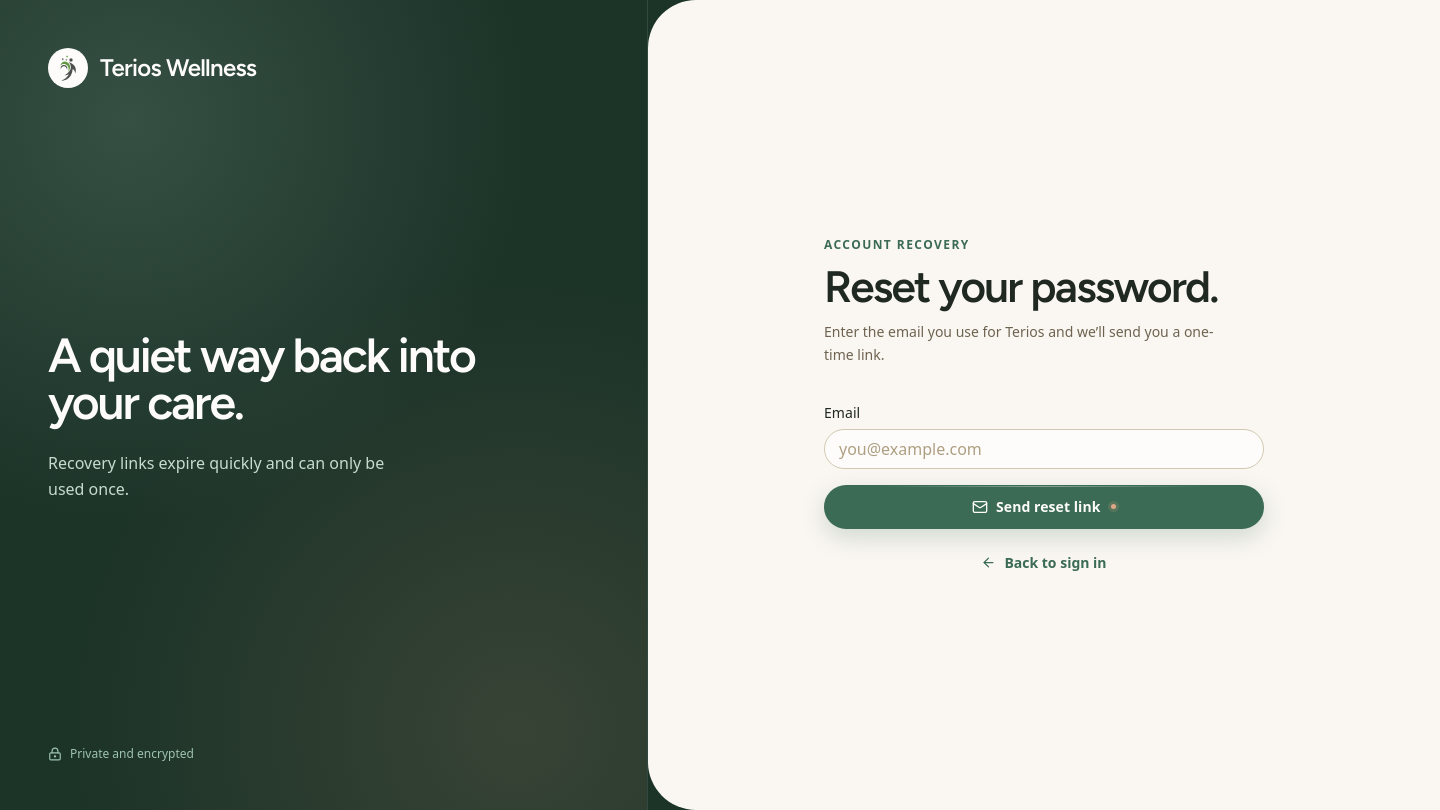
Test: client password recovery request › announces the error exactly once
In the field labelled "Email": (1044, 449) left=824, top=429, right=1264, bottom=469, type "nope"
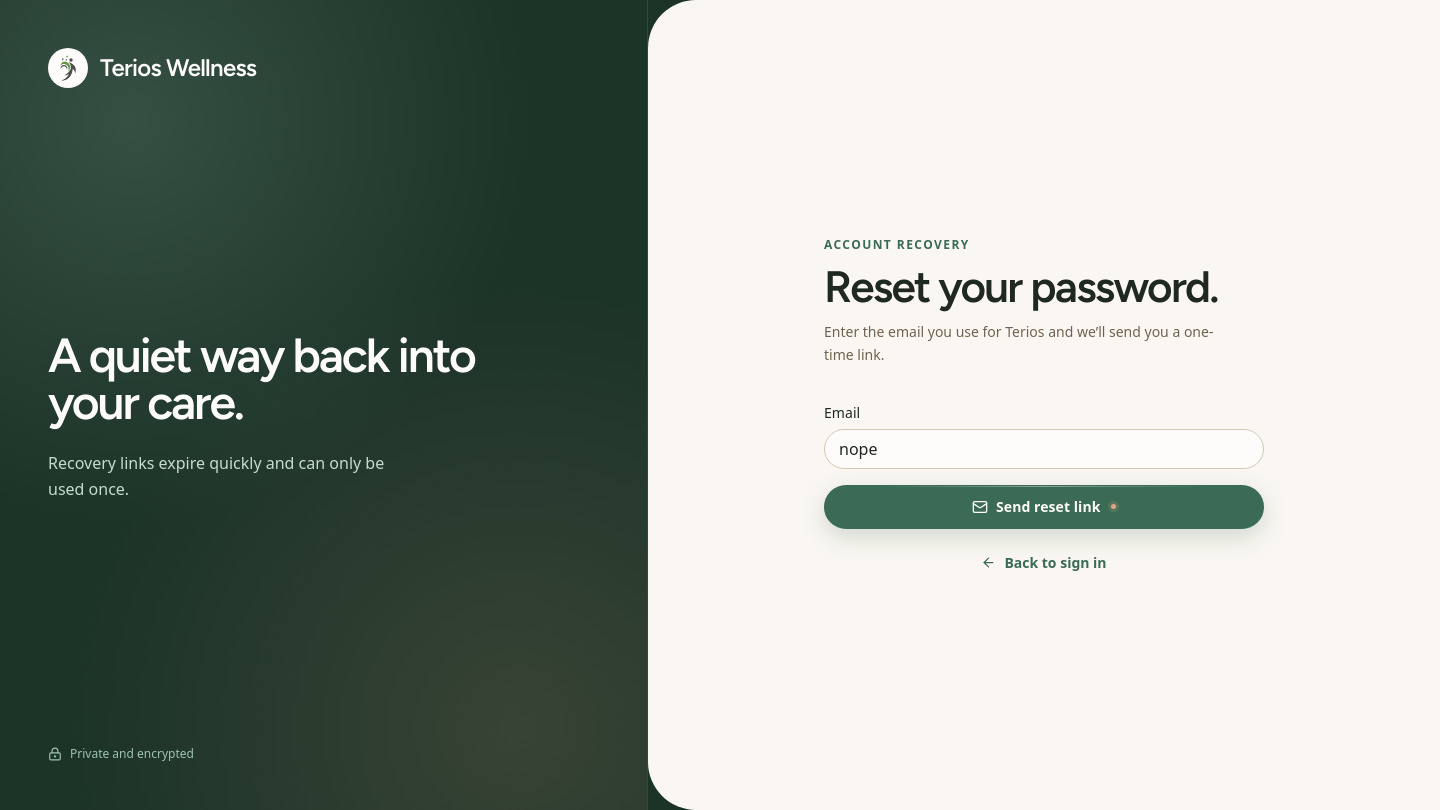
Click the button "Send reset link": (1044, 507) left=824, top=485, right=1264, bottom=529
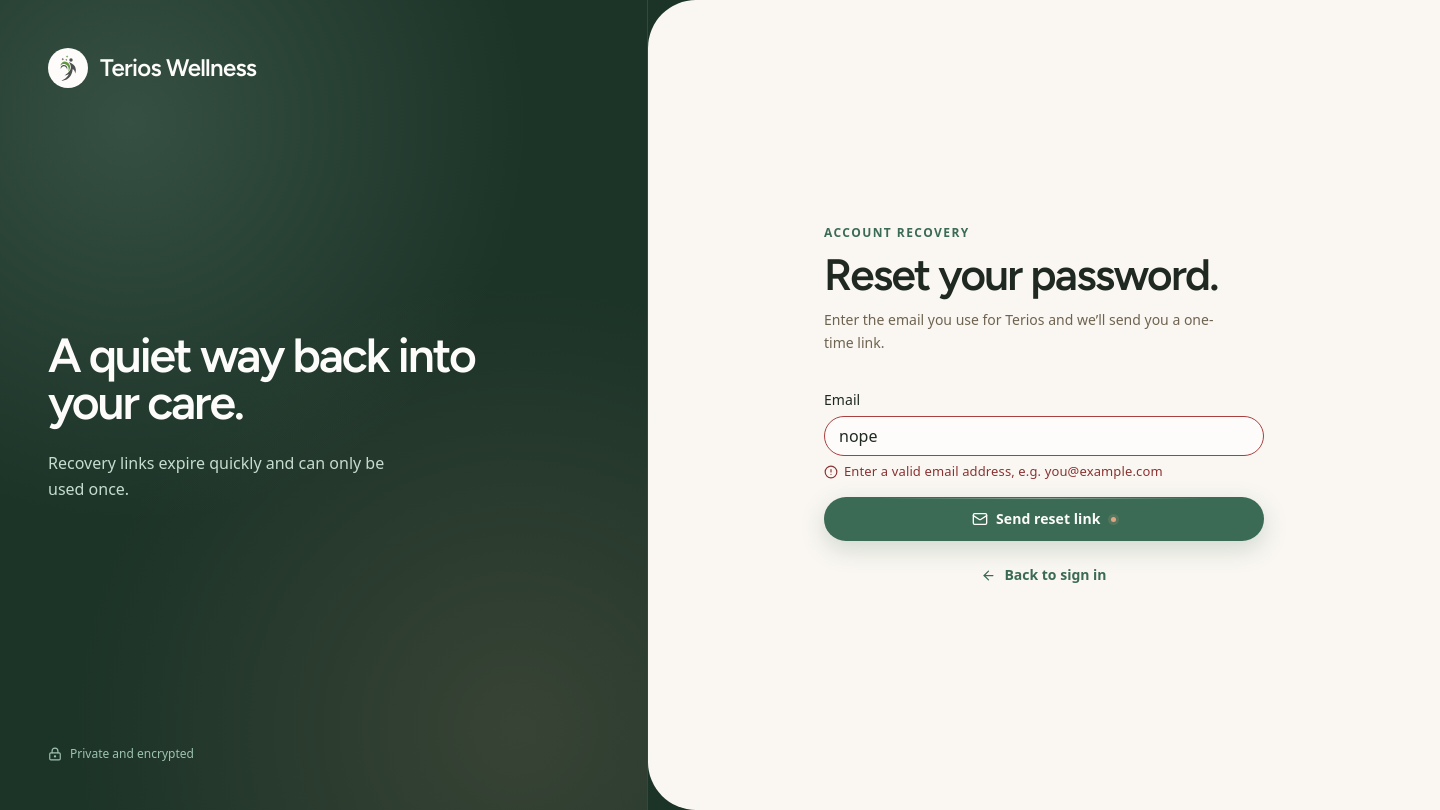
expect the number of messages is 1: met, box left=824, top=462, right=1163, bottom=480
